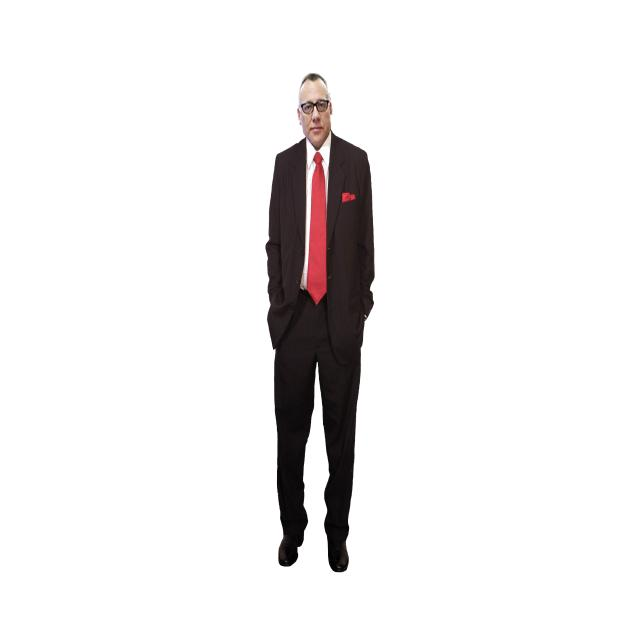jovem: (242, 62, 395, 590)
